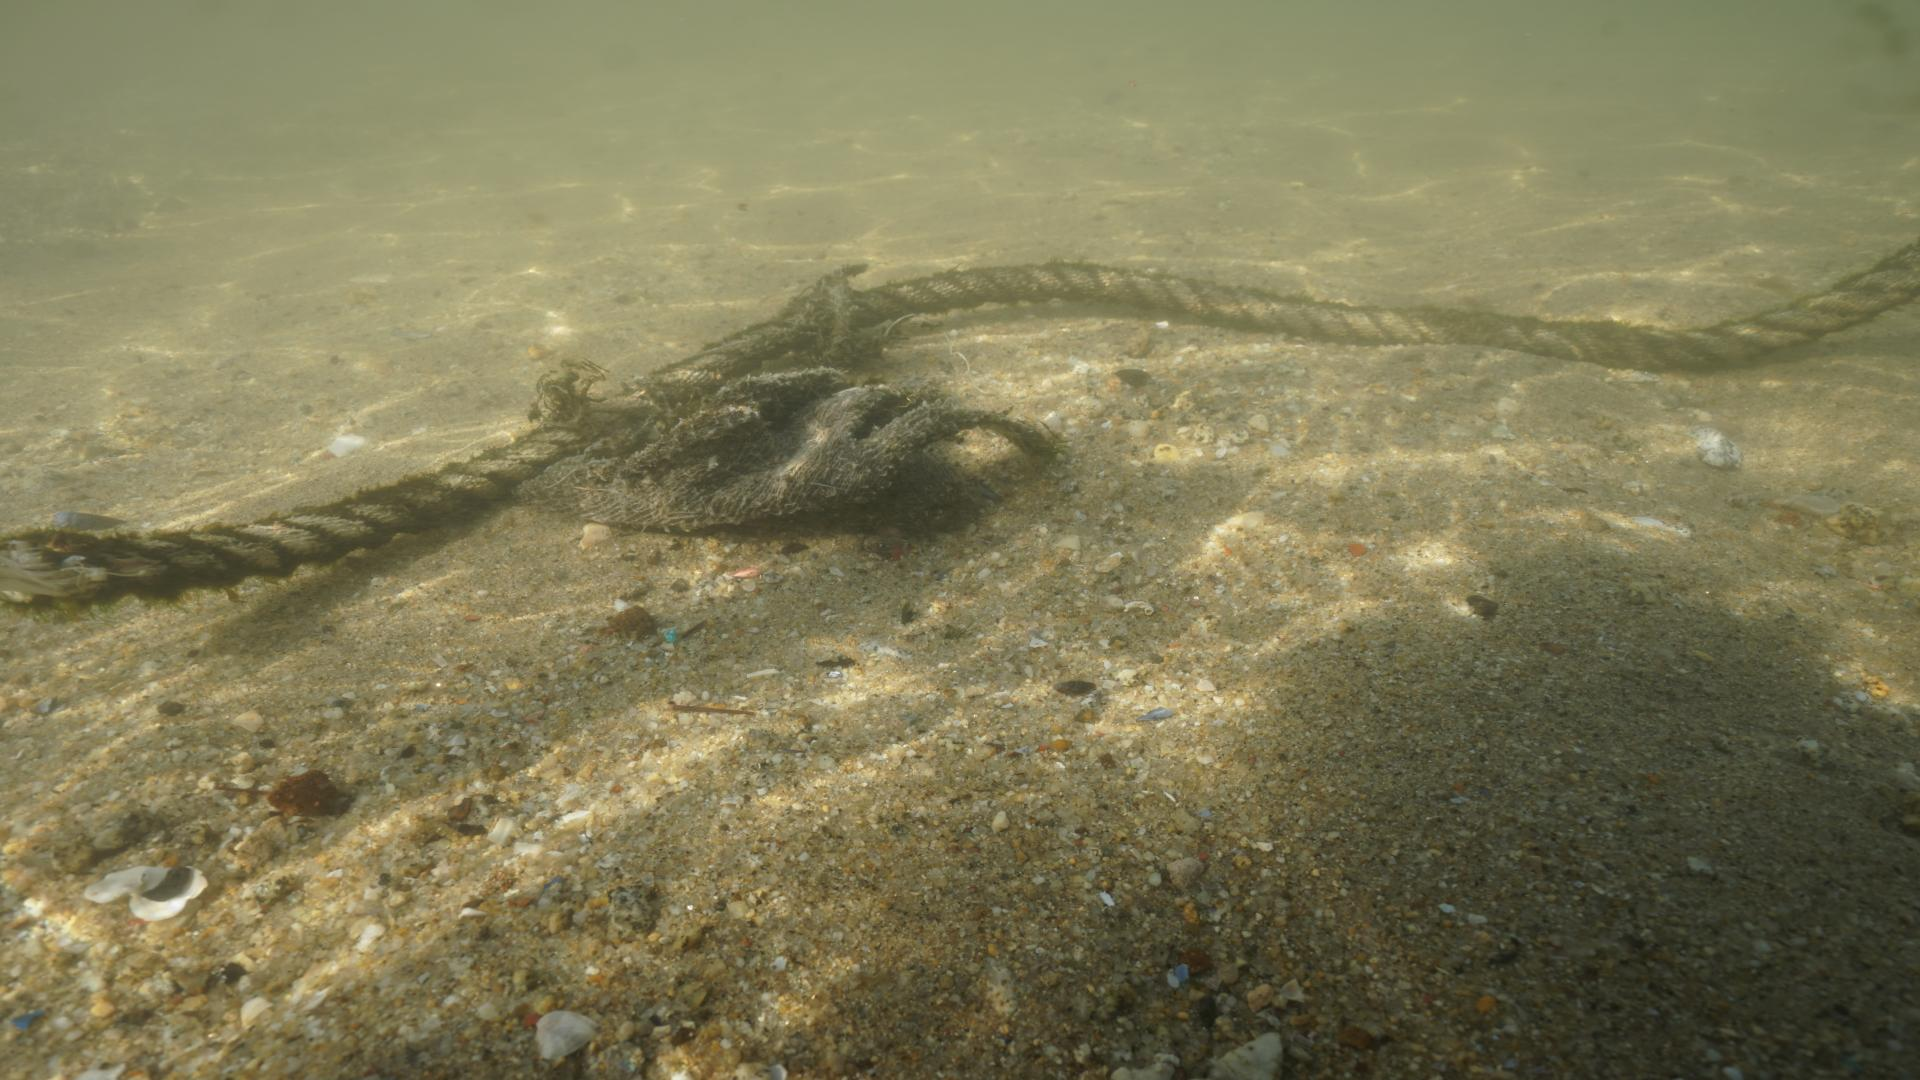rope: (0, 233, 1913, 596)
